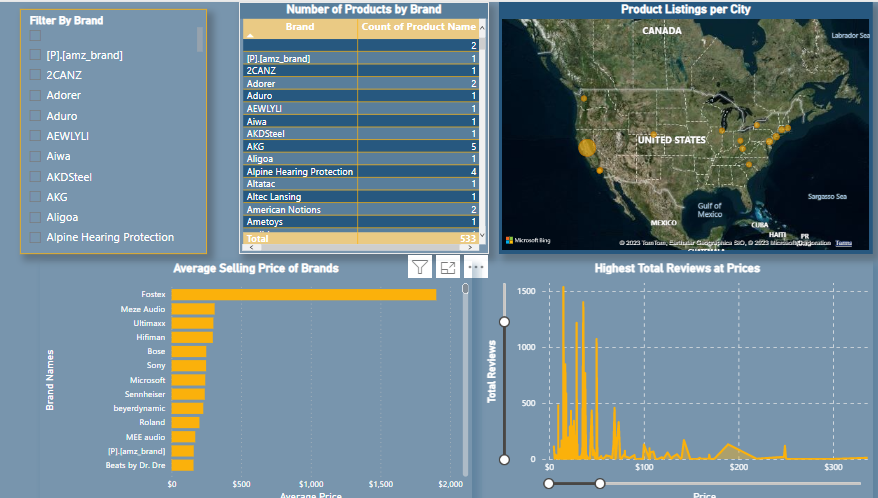

What the dashboard file says about the page in this screenshot:
{"tool":"powerbi","page":{"name":"Walmart Products Data","canvas":[1280,720],"ordinal":0},"visuals":[{"type":"tableEx","title":"Number of Products by Brand","fields":{"Values":["walmart-product.Brand","walmart-product.Product Name"]},"box":[354.3,0,357.1,360],"z":1000},{"type":"map","title":"Product Listings per City","fields":{"Category":["walmart-product.City Name"],"Size":["CountNonNull(walmart-product.Brand)"]},"box":[725.7,0,534.3,360],"z":2000},{"type":"barChart","title":"Average Selling Price of Brands","fields":{"Category":["walmart-product.Brand"],"Y":["Avg(walmart-product.Price)"]},"box":[70,370,617.1,350],"z":3000},{"type":"areaChart","title":"Highest Total Reviews at Prices","fields":{"Category":["walmart-product.Price"],"Y":["Sum(walmart-product.Number of Reviews)"]},"box":[701.4,370,558.6,350],"z":4000},{"type":"slicer","fields":{"Values":["walmart-product.Brand"]},"box":[41.4,10,267.1,350],"z":7000}]}

Visuals, with their boxes in screenshot pixels (x1, y1, x2, y2), scaled from the page's 1280x720 canvas onto the 878x498 screenshot:
"Number of Products by Brand" tableEx: [x1=243, y1=0, x2=488, y2=249]
"Product Listings per City" map: [x1=498, y1=0, x2=864, y2=249]
"Average Selling Price of Brands" barChart: [x1=48, y1=256, x2=471, y2=497]
"Highest Total Reviews at Prices" areaChart: [x1=481, y1=256, x2=864, y2=497]
slicer - walmart-product.Brand: [x1=28, y1=7, x2=212, y2=249]
